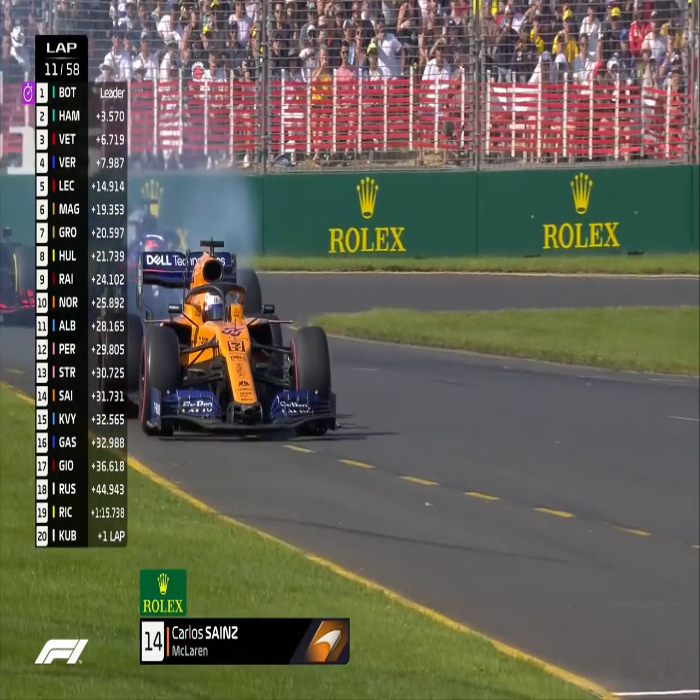f1_car: (123, 250, 355, 460)
